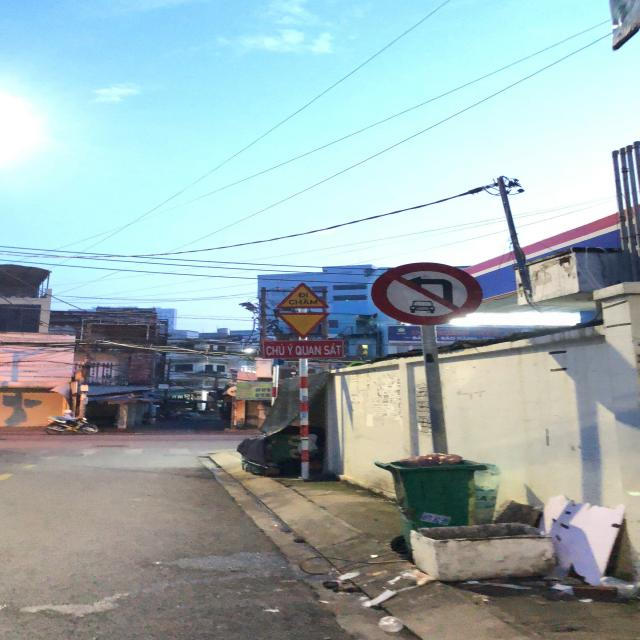Bien bao cam xe o to re trai: (363, 261, 497, 319)
Bien bao di cham: (276, 282, 332, 312)
Bien bao giao nhau voi duong uu tien: (271, 310, 334, 339)
